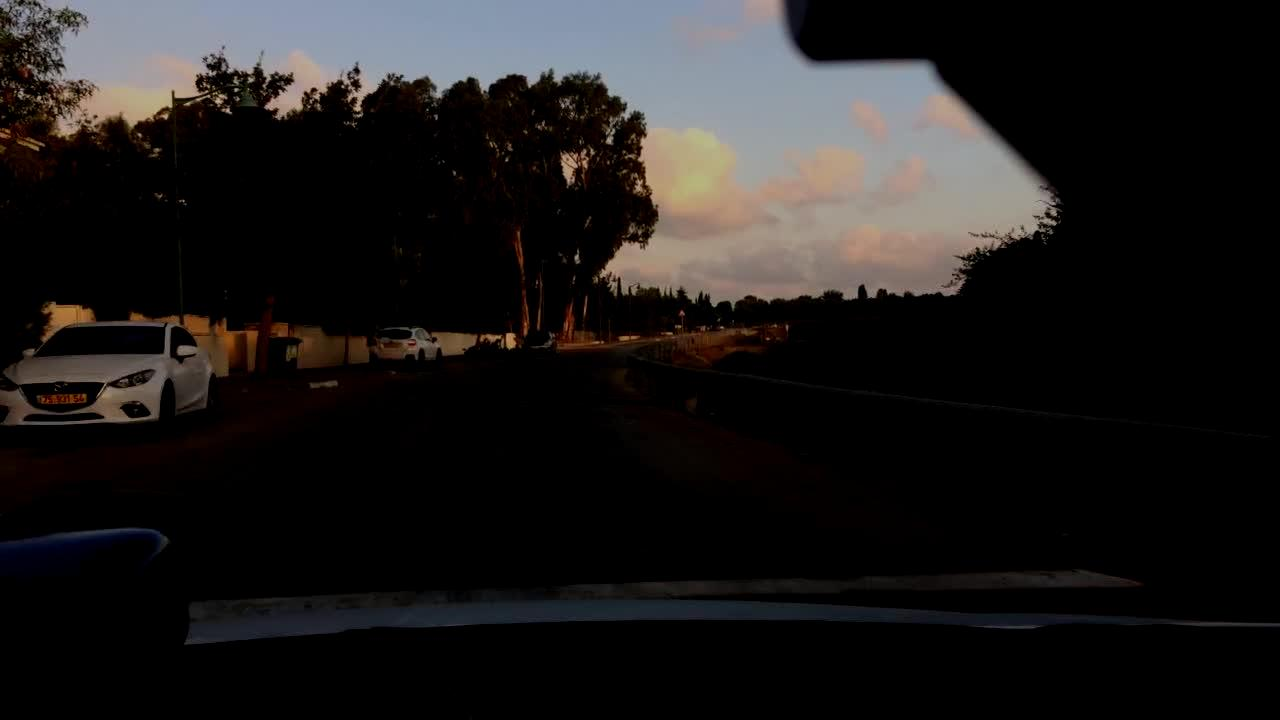Mazda: (45, 373, 73, 394)
